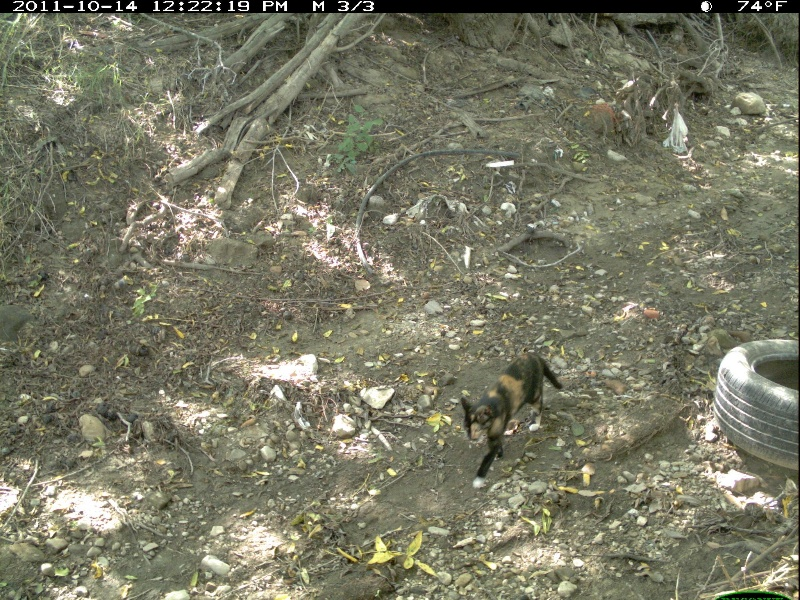cat: (458, 351, 565, 496)
